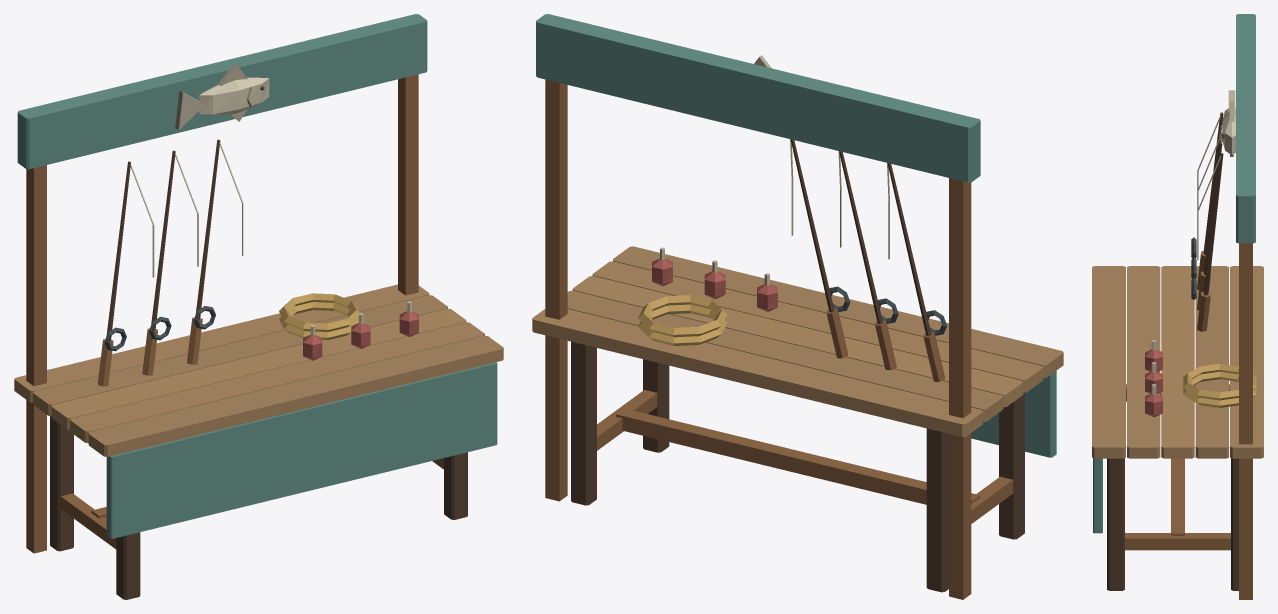
The model's file is fishfest_stall.glb.
3 views of the same model, side by side, from view 1: azimuth 30°, elevation 25°; view 2: azimuth 150°, elevation 25°; view 3: azimuth 270°, elevation 25° (orthographic). The views are drawn at different scales.
Parts seen in each view (by area): view 1: geometry; view 2: geometry; view 3: geometry.
Boxes of the visible parts, box(x1,y1,x2,y2) form: geometry: box(14, 14, 503, 599); geometry: box(532, 14, 1063, 599); geometry: box(1092, 14, 1263, 599).
Size of the model in its own units: 2.16 by 2.28 by 0.86.
